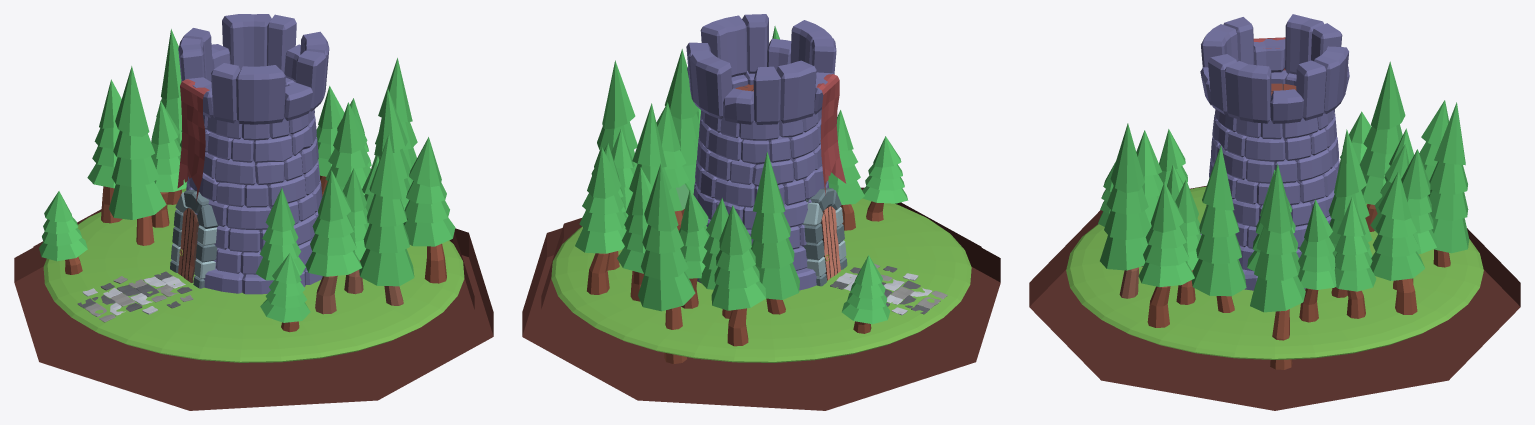
File: tower.fbx
3 views of the same model, side by side, from view 1: azimuth 30°, elevation 25°; view 2: azimuth 150°, elevation 25°; view 3: azimuth 270°, elevation 25° (orthographic).
Visible parts, largest first — view 1: trees, tower.002, grass, peana, flag, trunks, portapedra1, trees.001, door1, rockdf1, portapedra2, rocksf3 (+2 smaller); view 2: trees, grass, peana, tower.002, trunks, flag, portapedra1, door1, portapedra2, rocksf2, rockdf1, rocksf3; view 3: trees, peana, tower.002, grass, trunks, trees.001.
Part boxes in pixels (<box>): trees: <box>39,29,455,322</box>; tower.002: <box>178,14,329,294</box>; grass: <box>43,188,464,362</box>; peana: <box>14,209,493,410</box>; flag: <box>177,79,209,201</box>; trunks: <box>101,175,446,332</box>; portapedra1: <box>170,189,218,288</box>; trees.001: <box>315,260,403,314</box>; door1: <box>178,208,196,282</box>; rockdf1: <box>77,271,192,311</box>; portapedra2: <box>171,192,216,279</box>; rocksf3: <box>85,276,193,322</box>; trees: <box>575,26,908,324</box>; grass: <box>551,198,971,362</box>; peana: <box>522,187,1000,410</box>; tower.002: <box>686,14,836,290</box>; trunks: <box>587,201,883,363</box>; flag: <box>816,74,846,195</box>; portapedra1: <box>804,187,847,286</box>; door1: <box>822,206,840,280</box>; portapedra2: <box>802,202,846,276</box>; rocksf2: <box>836,272,932,315</box>; rockdf1: <box>830,266,929,314</box>; rocksf3: <box>874,263,947,308</box>; trees: <box>1098,61,1469,312</box>; peana: <box>1029,186,1520,410</box>; tower.002: <box>1200,14,1349,290</box>; grass: <box>1066,186,1483,359</box>; trunks: <box>1147,204,1450,369</box>; trees.001: <box>1119,266,1142,298</box>.
Size of the model in its own units: 4255 by 2513 by 4255.
